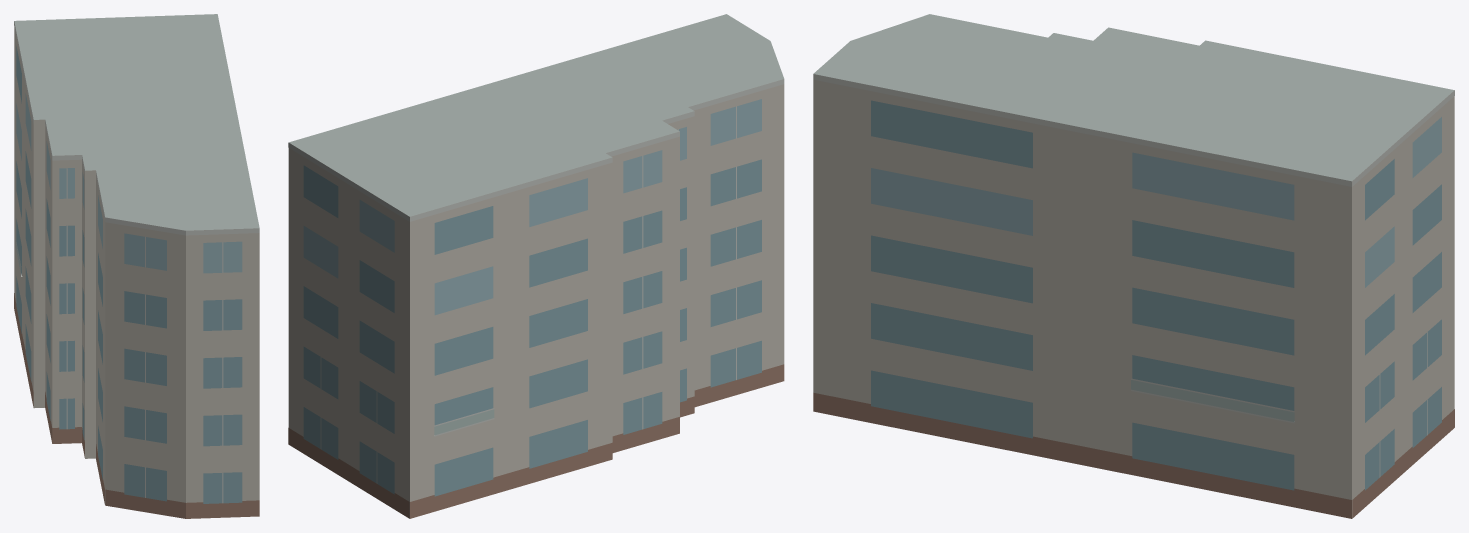
Rendered from survey-upis-32630108.glb.
The picture shows the model from 3 angles, left to right: view 1: azimuth 30°, elevation 25°; view 2: azimuth 150°, elevation 25°; view 3: azimuth 270°, elevation 25°; orthographic projection. The views are drawn at different scales.
Parts seen in each view (by area): view 1: survey-upis-32630108.tmp; view 2: survey-upis-32630108.tmp; view 3: survey-upis-32630108.tmp.
Boxes of the visible parts, x1,y1,x2,y2 form: survey-upis-32630108.tmp: [14, 14, 259, 518]; survey-upis-32630108.tmp: [288, 14, 784, 518]; survey-upis-32630108.tmp: [813, 14, 1454, 518].
Bounding box in the file's own units: 15.43 × 14.5 × 24.99.
